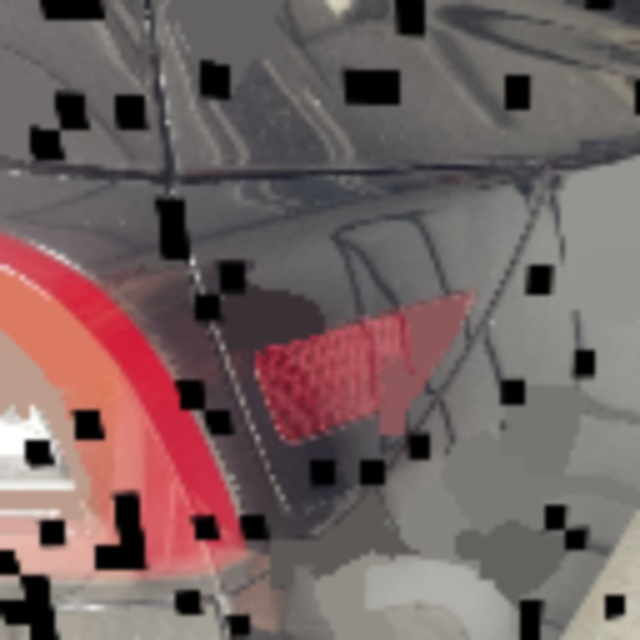reflector: (246, 287, 478, 443)
